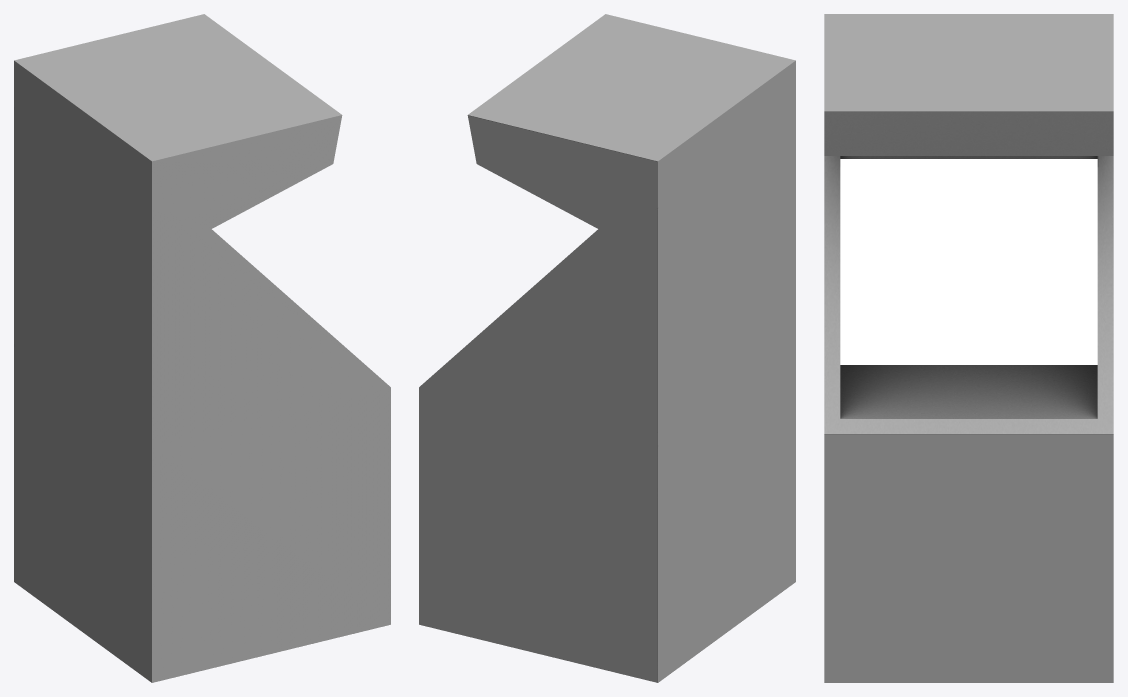
Rendered from ArcadeMachine.glb.
3 views of the same model, side by side, from view 1: azimuth 30°, elevation 25°; view 2: azimuth 150°, elevation 25°; view 3: azimuth 270°, elevation 25° (orthographic). The views are drawn at different scales.
Visible parts, largest first — view 1: ArcadeMachine; view 2: ArcadeMachine; view 3: ArcadeMachine, Screen.
Part boxes in pixels (box(x1,y1,x2,y2)): ArcadeMachine: box(14, 14, 390, 682); ArcadeMachine: box(419, 14, 795, 682); ArcadeMachine: box(824, 14, 1113, 682); Screen: box(840, 159, 1097, 364).
Bounding box in the file's own units: 0.9927 × 2.07 × 0.9927.
Materials: 2 (1 with a texture image).
